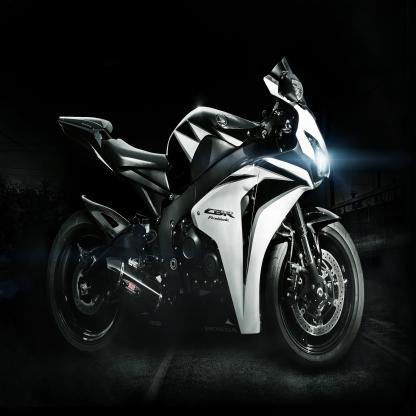Motorcycle: (41, 55, 369, 373)
